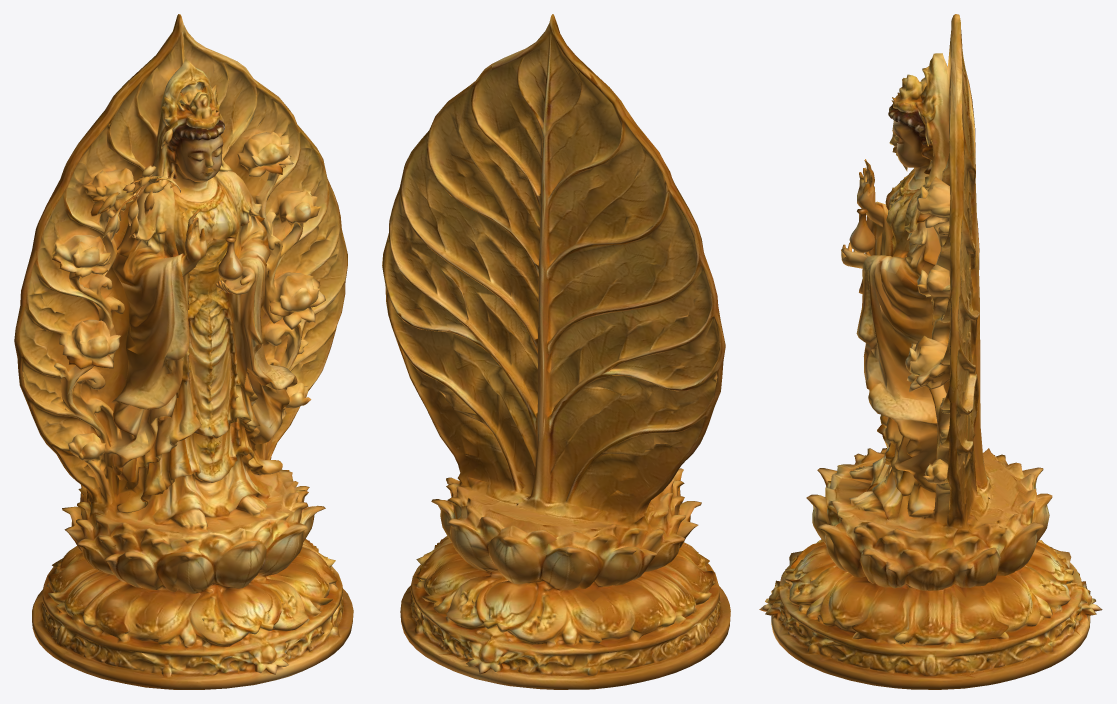
3 views of the same model, side by side, from view 1: azimuth 30°, elevation 25°; view 2: azimuth 150°, elevation 25°; view 3: azimuth 270°, elevation 25° (orthographic). The views are drawn at different scales.
Parts seen in each view (by area): view 1: four-heavenly-kings-02; view 2: four-heavenly-kings-02; view 3: four-heavenly-kings-02.
Boxes of the visible parts, x1=… form: four-heavenly-kings-02: x1=14, y1=14, x2=353, y2=689; four-heavenly-kings-02: x1=382, y1=14, x2=730, y2=689; four-heavenly-kings-02: x1=759, y1=14, x2=1102, y2=689.
Bounding box in the file's own units: 0.5814 × 0.9997 × 0.5118.
1 material, 1 textured.
